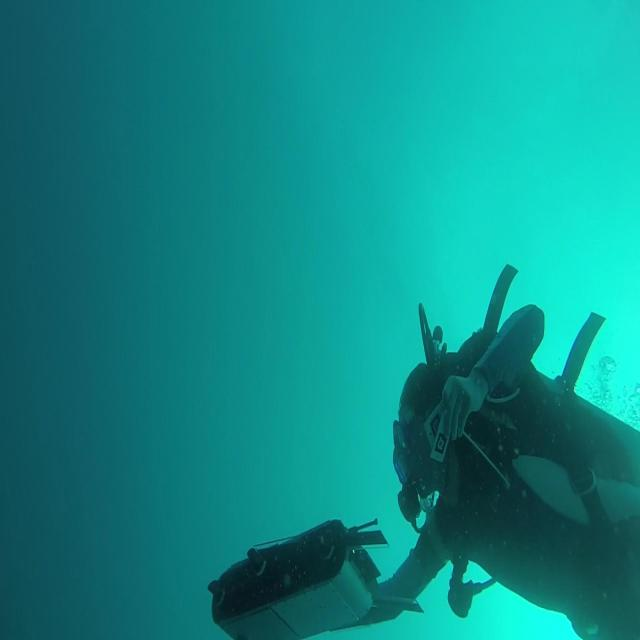human: (378, 263, 639, 638)
